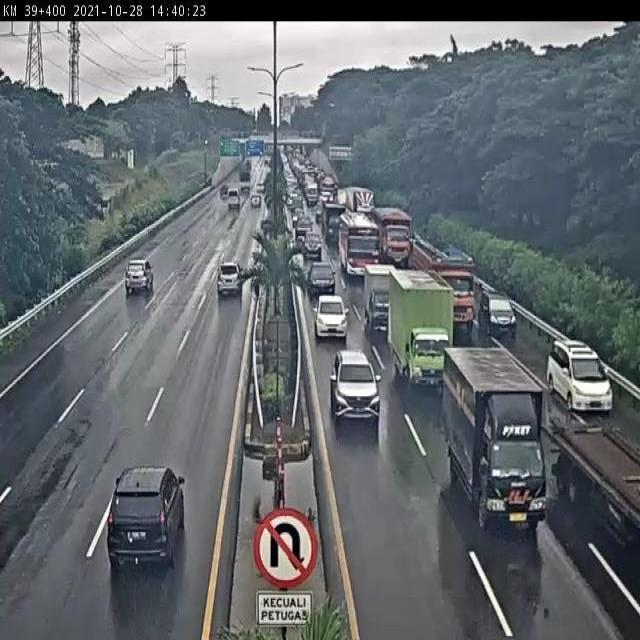truck: (431, 340, 561, 541), (382, 263, 466, 405)
